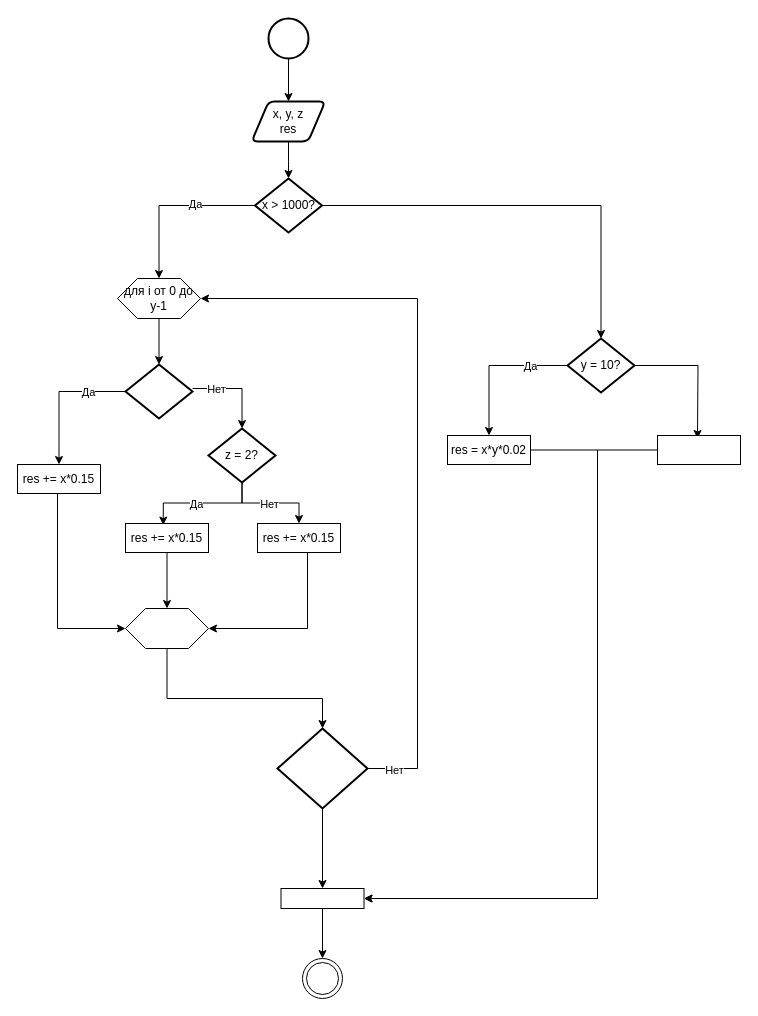
Some shapes in this 758 by 1016 pixel diagram are drawn without their labels. Each missing label, with the centre of its shape:
"i += 1" belongs at (166,628).
"res = x*y*0.01" belongs at (698,449).
"z = 1?" belongs at (158,391).
"Вернуть res" belongs at (322,898).
"Цикл завершен?" belongs at (322,768).
